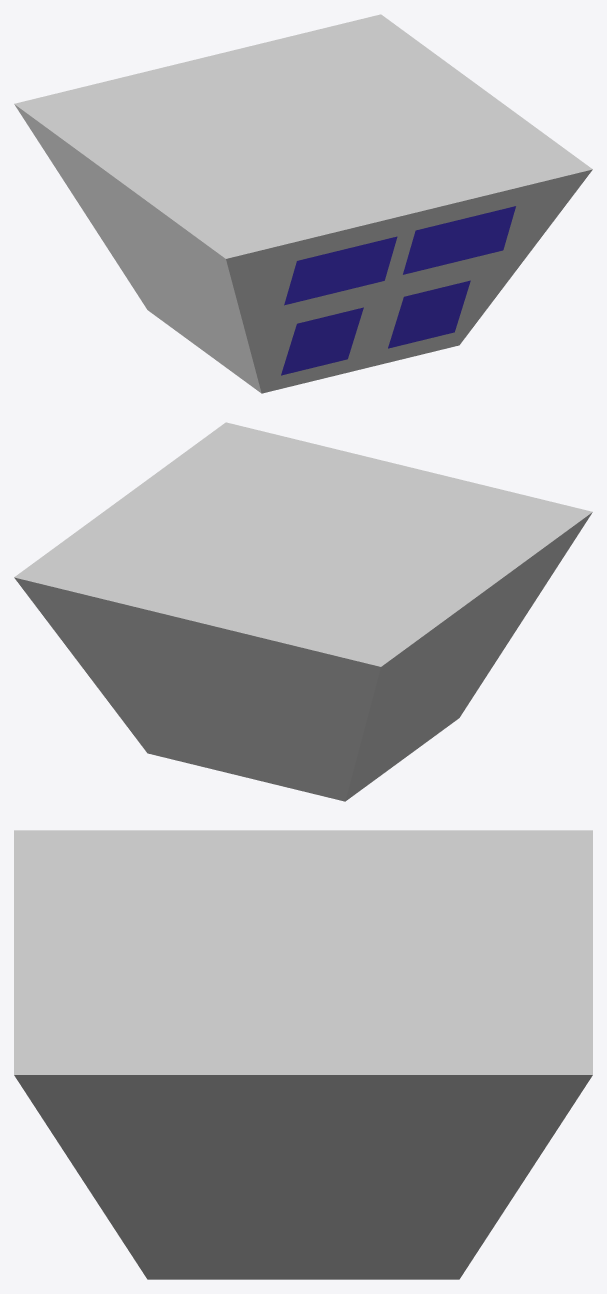
The model's file is scoreboardFRAMES.glb.
3 renders of one model, top to bottom at view 1: azimuth 30°, elevation 25°; view 2: azimuth 150°, elevation 25°; view 3: azimuth 270°, elevation 25°, orthographic. The views are drawn at different scales.
Parts seen in each view (by area): view 1: Cube, Name1, Name2, scoreRight, scoreLeft; view 2: Cube; view 3: Cube.
Boxes of the visible parts, x1,y1,x2,y2 form: Cube: (14, 14, 592, 393); Name1: (284, 236, 397, 305); Name2: (403, 206, 515, 274); scoreRight: (388, 280, 470, 348); scoreLeft: (281, 307, 363, 375); Cube: (14, 422, 592, 801); Cube: (14, 830, 592, 1279).
Size of the model in its own units: 4.73 by 2.35 by 4.73.
